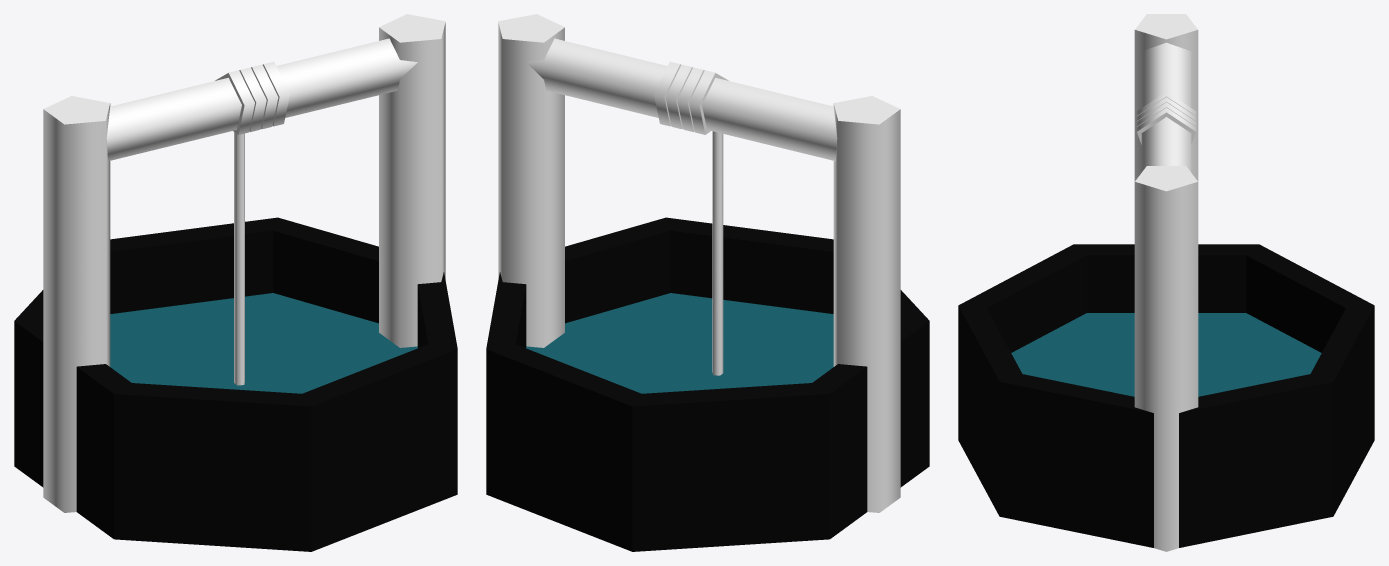
File: Well.FBX
3 views of the same model, side by side, from view 1: azimuth 30°, elevation 25°; view 2: azimuth 150°, elevation 25°; view 3: azimuth 270°, elevation 25° (orthographic). The views are drawn at different scales.
Visible parts, largest first — view 1: Well; view 2: Well; view 3: Well.
Part boxes in pixels (bbox=[...]): Well: bbox=[14, 14, 457, 551]; Well: bbox=[486, 14, 929, 551]; Well: bbox=[958, 14, 1374, 551].
Bounding box in the file's own units: 52.79 × 50.21 × 52.34.
